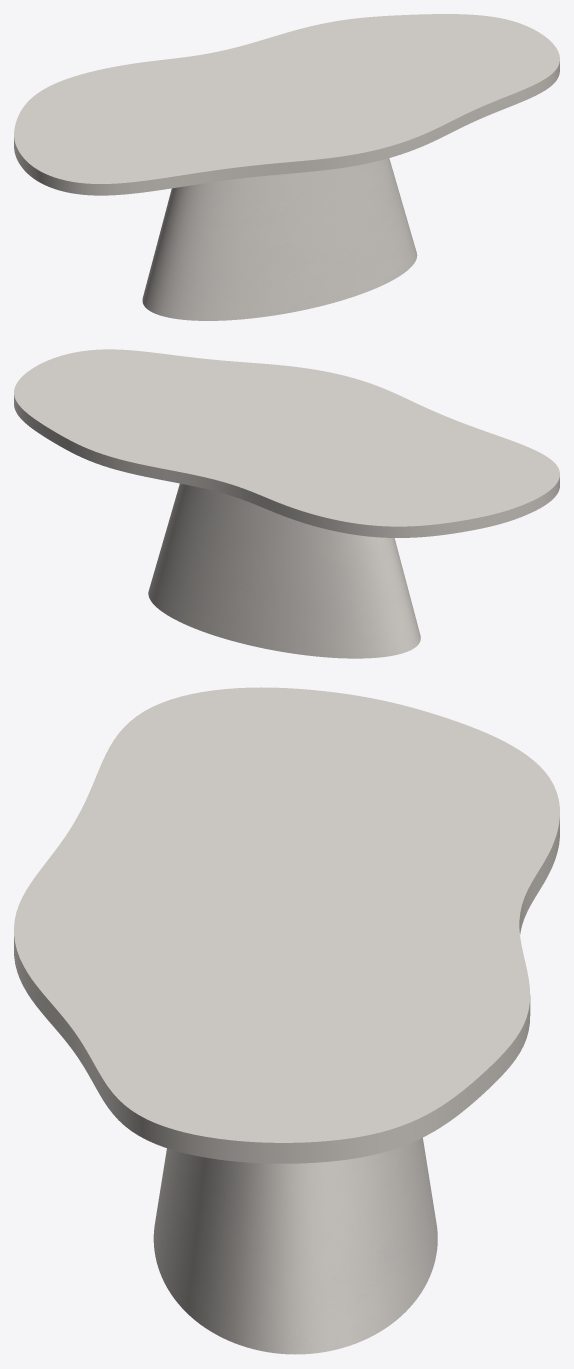
File: pearlwhite_toplast_standard_eqone.glb
3 views of the same model, one above another, from view 1: azimuth 30°, elevation 25°; view 2: azimuth 150°, elevation 25°; view 3: azimuth 270°, elevation 25° (orthographic). The views are drawn at different scales.
Parts seen in each view (by area): view 1: standard_toplast, eqone; view 2: standard_toplast, eqone; view 3: standard_toplast, eqone.
Boxes of the visible parts, x1,y1,x2,y2 form: standard_toplast: [14, 14, 559, 195]; eqone: [142, 158, 417, 320]; standard_toplast: [14, 349, 559, 537]; eqone: [148, 483, 420, 658]; standard_toplast: [14, 687, 559, 1163]; eqone: [153, 1137, 437, 1354].
Bounding box in the file's own units: 7.5 × 2.5 × 3.8.
1 material, 1 textured.
